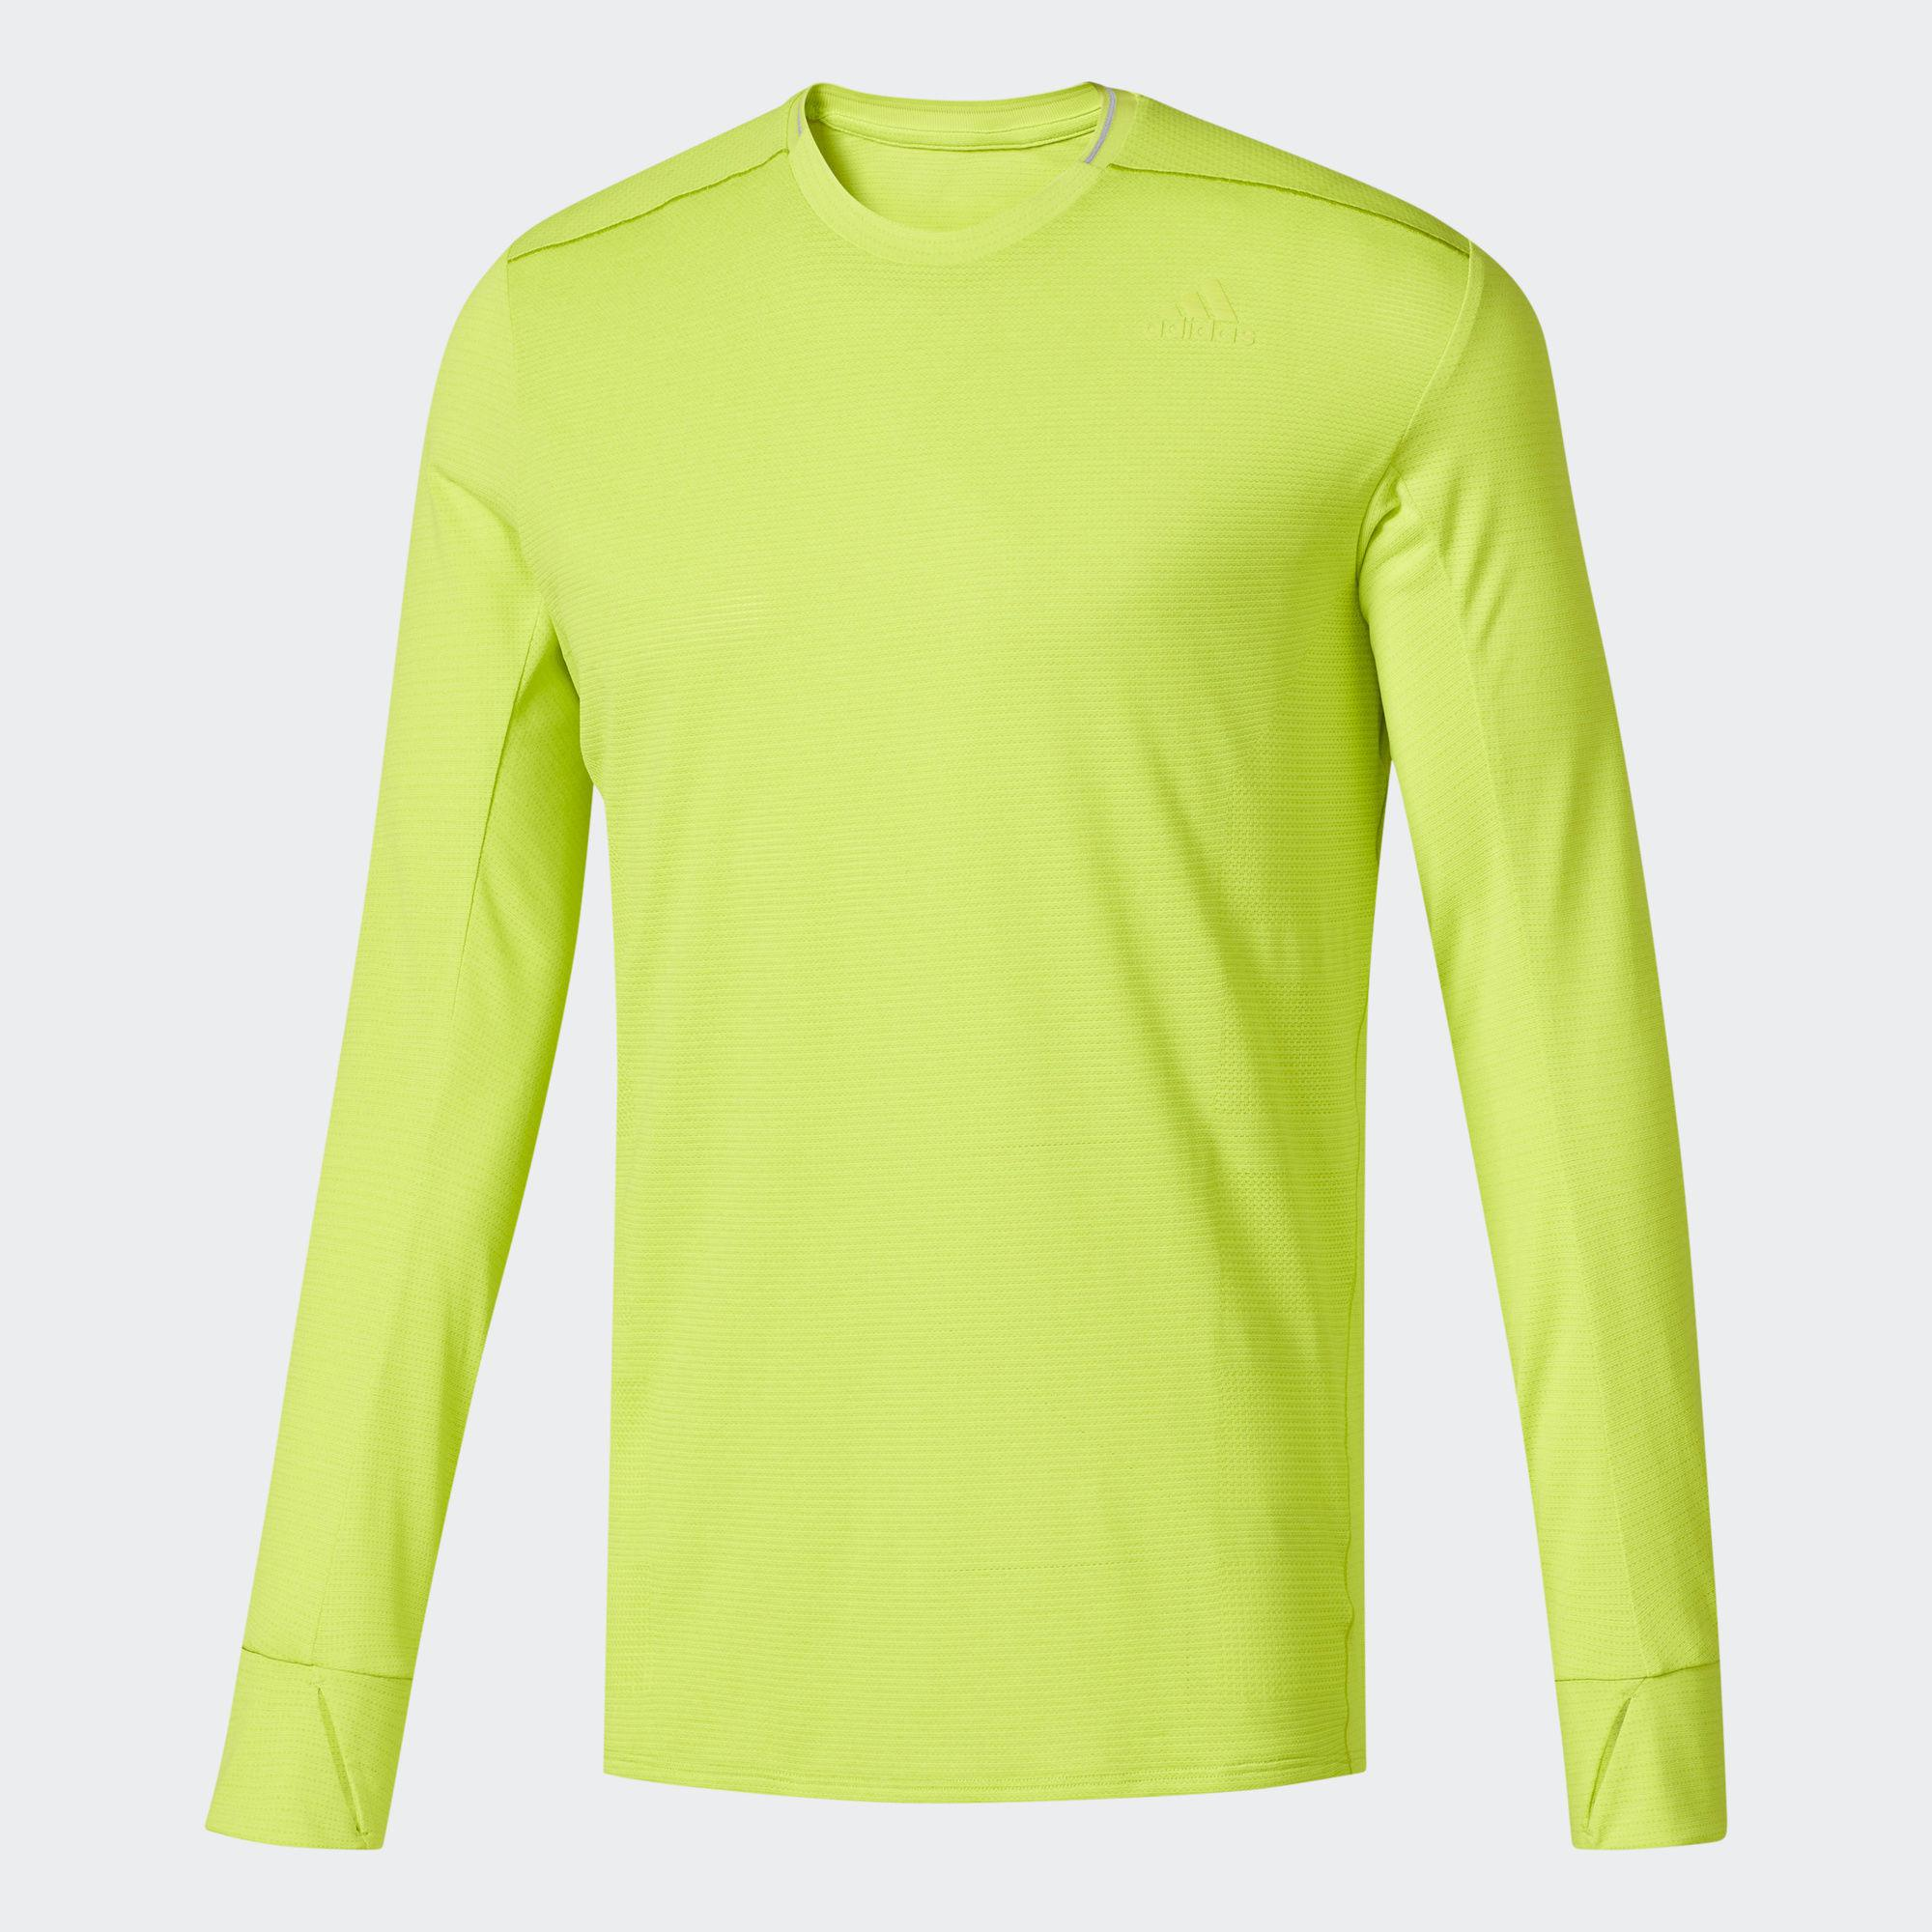teeshirt: (182, 87, 1759, 1930)
